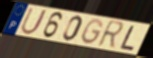0: (61, 15, 83, 42)
6: (41, 11, 63, 39)
G: (80, 18, 104, 46)
L: (118, 25, 136, 52)
R: (95, 19, 126, 51)
U: (19, 7, 49, 36)
